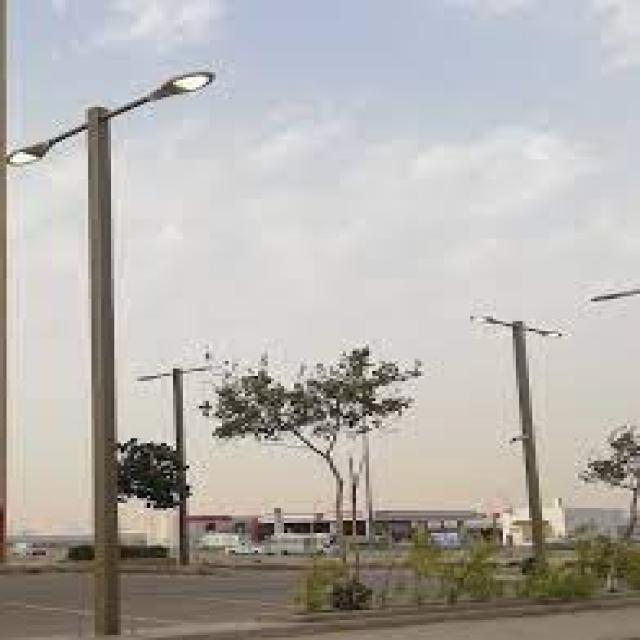Street Light: (3, 69, 212, 640), (470, 312, 562, 580), (134, 363, 209, 562)
